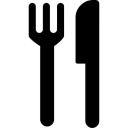Fork: (24, 2, 70, 128)
